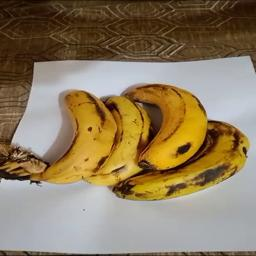Banana Semifresh: (8, 85, 251, 200)
